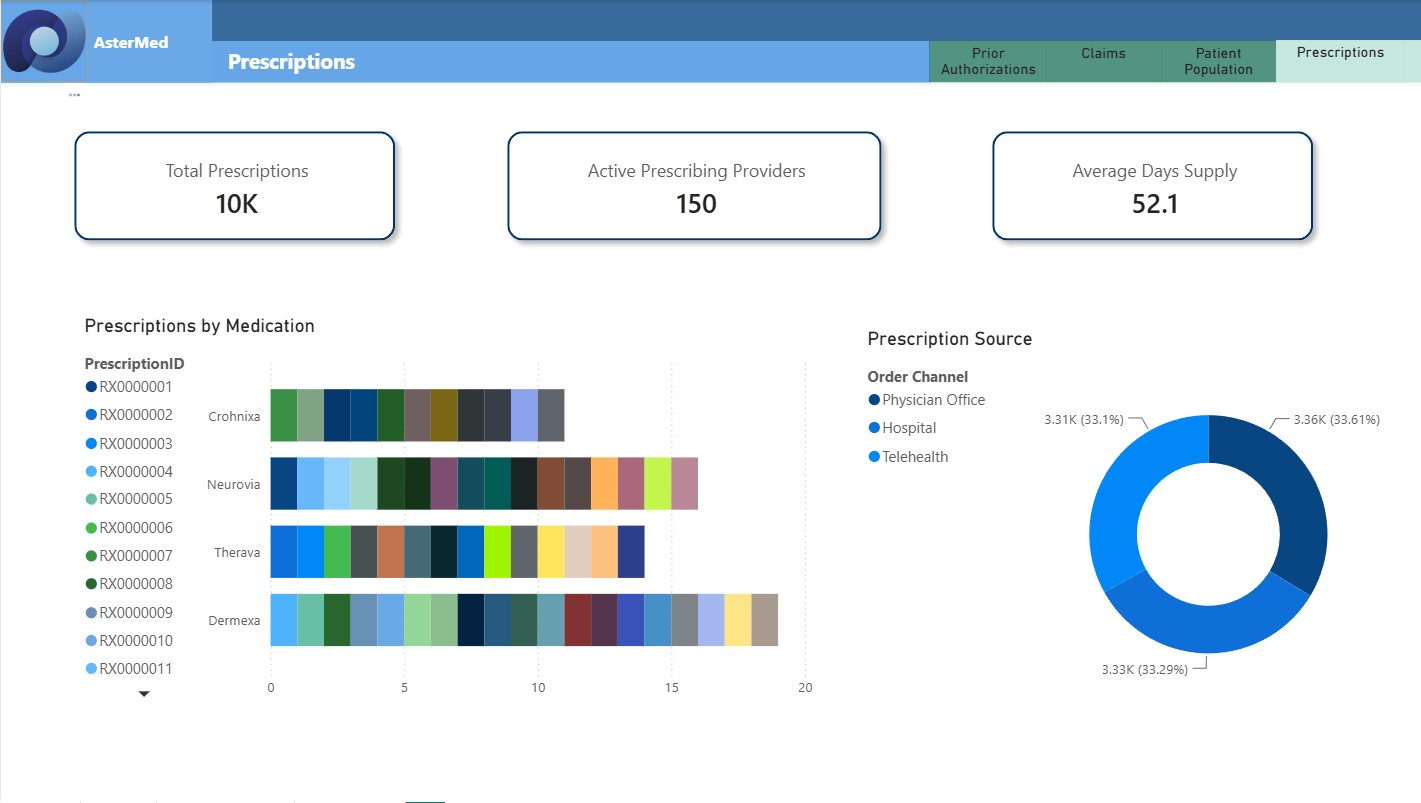

The page's visual inventory and layout, read from the dashboard file:
{"tool":"powerbi","page":{"name":"Prescriptions","canvas":[1280,720],"ordinal":3},"visuals":[{"type":"group","id":"g1","title":"Header Background","box":[0,0,1280,73.8],"z":0},{"type":"shape","title":"Horizontal Shape","box":[189.1,36.4,645.5,37],"z":0,"group":"g1"},{"type":"shape","title":"Horizontal Shape","box":[834.2,37,445.8,35.8],"z":1000,"group":"g1"},{"type":"cardVisual","fields":{"Data":["prescriptions.Active Providers"]},"box":[425.1,88.7,394,156.7],"z":1000},{"type":"shape","title":"Horizontal Shape","box":[189.2,0.2,1090.4,36.9],"z":2000,"group":"g1"},{"type":"cardVisual","fields":{"Data":["prescriptions.Total Prescriptions"]},"box":[36.9,88.7,346.8,156.7],"z":2000},{"type":"shape","title":"Horizontal Shape","box":[0,0,189.2,73.8],"z":3000,"group":"g1"},{"type":"actionButton","title":"Company Name","box":[77.2,0,111.8,73.7],"z":3000},{"type":"image","title":"Company Logo","box":[0,0,78.3,73.7],"z":4000},{"type":"textbox","title":"Report Title","box":[188.9,36.9,645.2,36.9],"z":5000},{"type":"donutChart","title":"Prescription Source","fields":{"Category":["prescriptions.OrderChannel"],"Y":["CountNonNull(prescriptions.OrderChannel)"]},"box":[773.1,293.8,506.9,342.2],"z":6000},{"type":"barChart","title":"Prescriptions by Medication","fields":{"Category":["prescriptions.Medication"],"Series":["prescriptions.PrescriptionID"],"Y":["CountNonNull(prescriptions.PrescriptionID)"]},"box":[70.3,282.3,663.6,353.7],"z":7000},{"type":"cardVisual","fields":{"Data":["prescriptions.Average Days Supply"]},"box":[860.6,88.7,346.8,156.7],"z":8000},{"type":"actionButton","title":"Prior Authorizations","box":[834.1,36.9,104.8,36.9],"z":9000},{"type":"actionButton","title":"Claims","box":[937.8,36.9,103.7,36.9],"z":10000},{"type":"actionButton","title":"Patient Population","box":[1041.5,36.9,103.7,36.9],"z":11000},{"type":"actionButton","title":"Prescriptions","box":[1144.9,36.3,115.9,38.3],"z":12000},{"type":"textbox","box":[1259.8,36.3,20.2,38.3],"z":13000}]}

Visuals, with their boxes in screenshot pixels (x1, y1, x2, y2), scaled from the page's 1280x720 canvas onto the 1421x803 screenshot:
"Header Background" group: bbox=[0, 0, 1420, 82]
"Horizontal Shape" shape: bbox=[210, 41, 927, 82]
"Horizontal Shape" shape: bbox=[926, 41, 1420, 81]
cardVisual - prescriptions.Active Providers: bbox=[472, 99, 909, 274]
"Horizontal Shape" shape: bbox=[210, 0, 1420, 41]
cardVisual - prescriptions.Total Prescriptions: bbox=[41, 99, 426, 274]
"Horizontal Shape" shape: bbox=[0, 0, 210, 82]
"Company Name" actionButton: bbox=[86, 0, 210, 82]
"Company Logo" image: bbox=[0, 0, 87, 82]
"Report Title" textbox: bbox=[210, 41, 926, 82]
"Prescription Source" donutChart: bbox=[858, 328, 1420, 709]
"Prescriptions by Medication" barChart: bbox=[78, 315, 815, 709]
cardVisual - prescriptions.Average Days Supply: bbox=[955, 99, 1340, 274]
"Prior Authorizations" actionButton: bbox=[926, 41, 1042, 82]
"Claims" actionButton: bbox=[1041, 41, 1156, 82]
"Patient Population" actionButton: bbox=[1156, 41, 1271, 82]
"Prescriptions" actionButton: bbox=[1271, 40, 1400, 83]
textbox: bbox=[1399, 40, 1420, 83]
